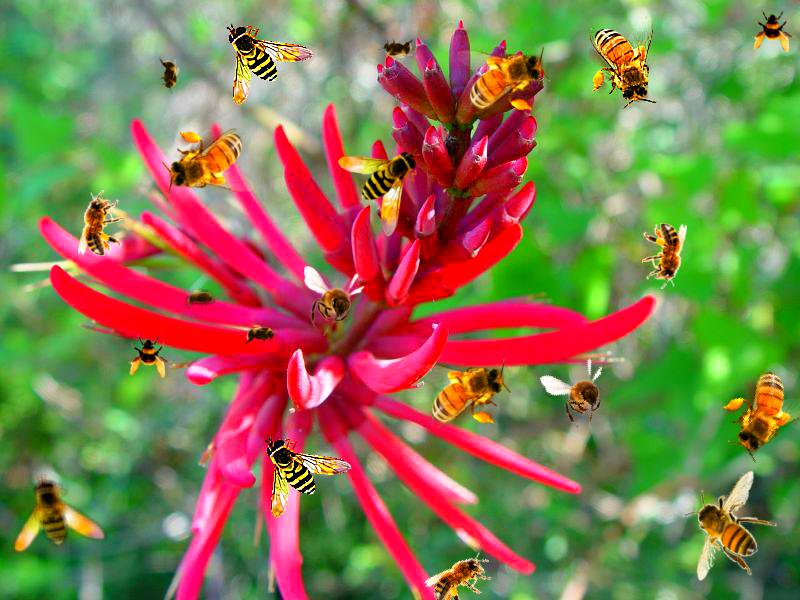Bee: (4, 472, 120, 584), (706, 355, 800, 468), (683, 470, 777, 581), (538, 348, 627, 440), (226, 23, 314, 105), (338, 149, 420, 237), (264, 436, 352, 518), (417, 358, 513, 429), (162, 128, 255, 196), (589, 16, 657, 109), (457, 46, 550, 114), (422, 541, 502, 600), (304, 266, 365, 336), (642, 223, 687, 289), (78, 190, 123, 256), (128, 334, 172, 378), (752, 9, 796, 53), (376, 35, 418, 61), (180, 287, 222, 311), (241, 324, 281, 346), (158, 55, 180, 95)
